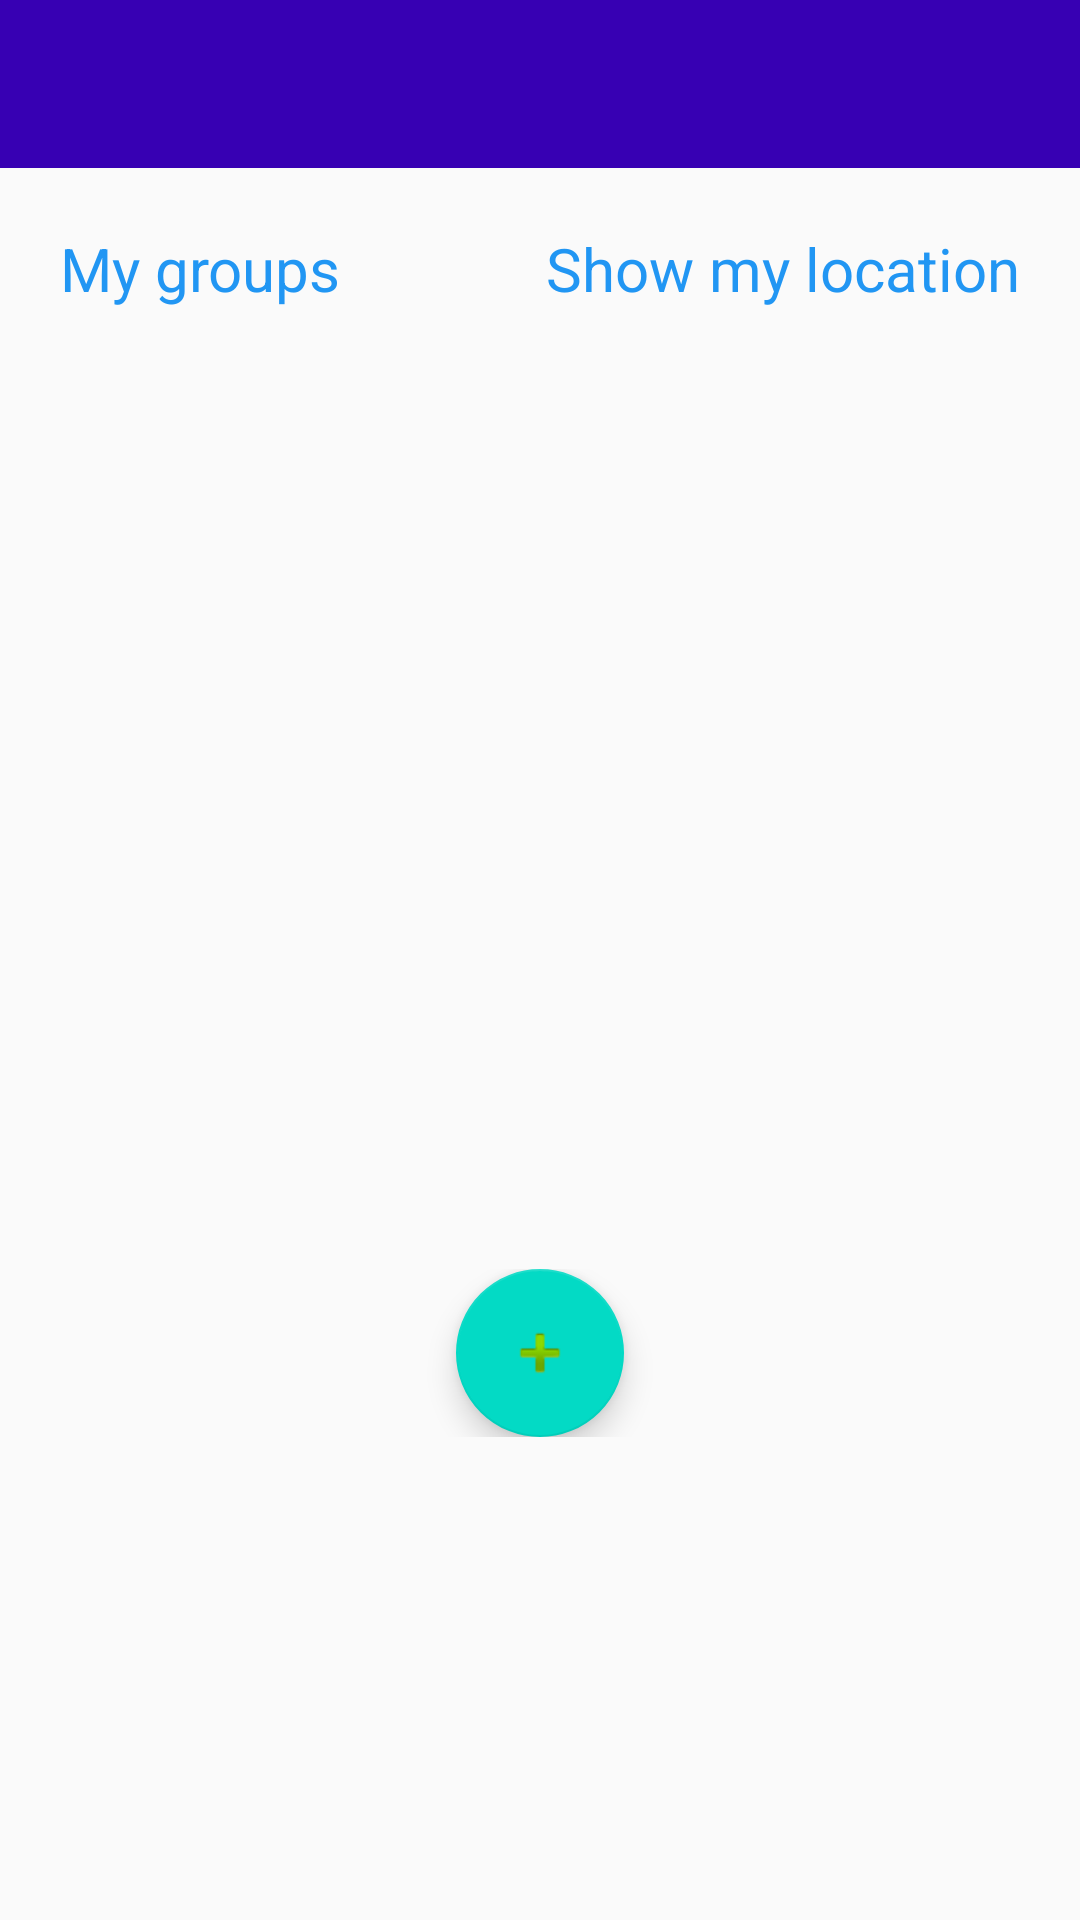

Named icons in this screenshot (1080w x 1920h) and their centers, (x=x, y=y):
add: (x=540, y=1353)
